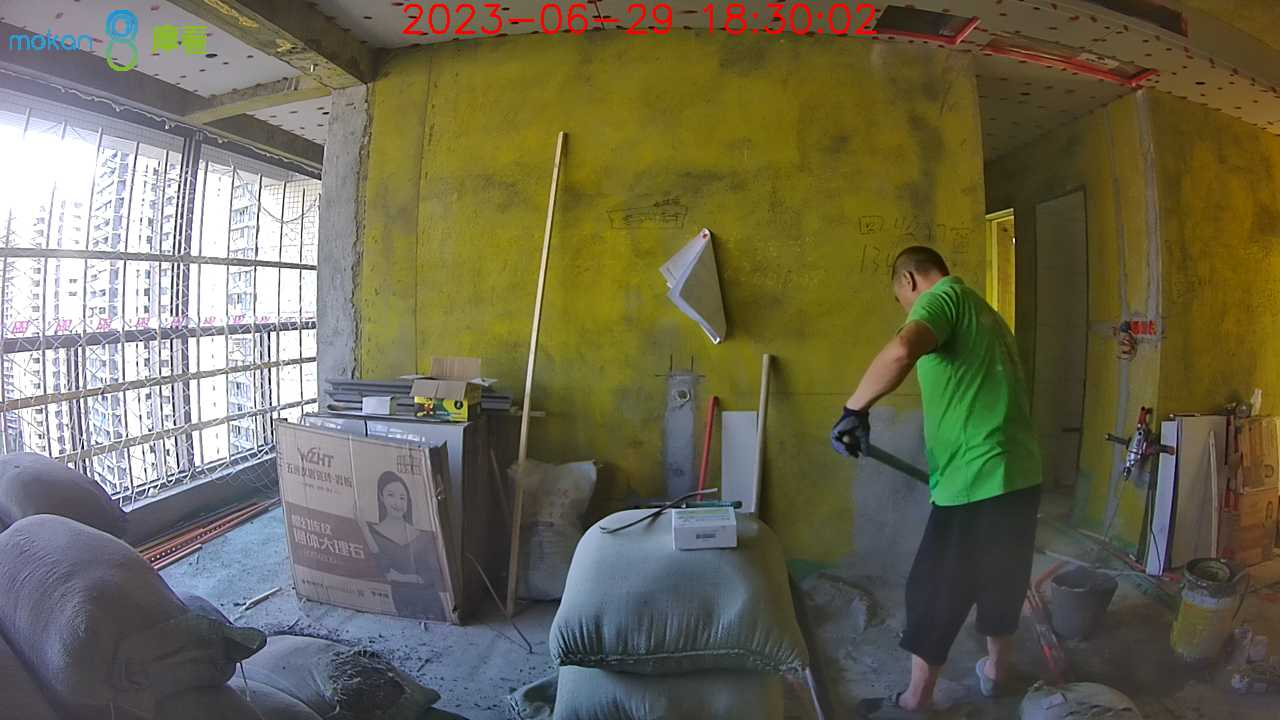people: (829, 244, 1041, 714)
window: (1, 97, 327, 494)
